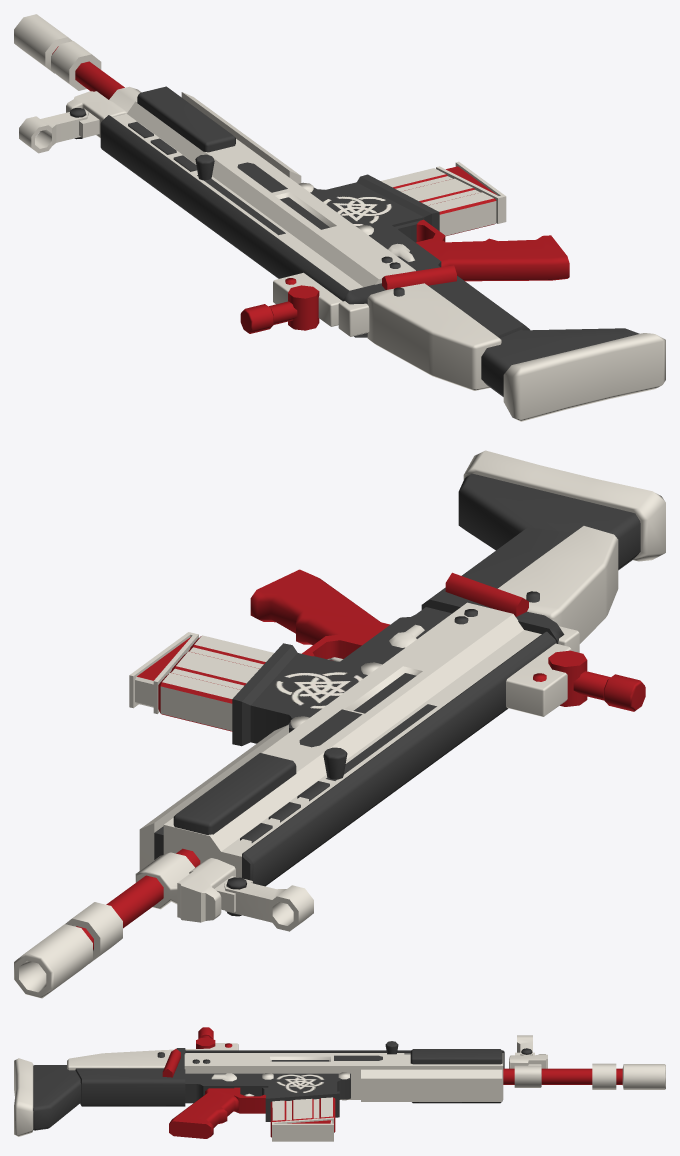
Rendered from yoshimi.glb.
3 views of the same model, one above another, from view 1: azimuth 30°, elevation 25°; view 2: azimuth 150°, elevation 25°; view 3: azimuth 270°, elevation 25° (orthographic). The views are drawn at different scales.
Visible parts, largest first — view 1: Yoshimi_Original_Weapon; view 2: Yoshimi_Original_Weapon; view 3: Yoshimi_Original_Weapon.
Boxes of the visible parts, <box> form: Yoshimi_Original_Weapon: <box>14,14,665,421</box>; Yoshimi_Original_Weapon: <box>14,450,665,998</box>; Yoshimi_Original_Weapon: <box>14,1027,665,1141</box>.
Bounding box in the file's own units: 0.2003 × 0.0433 × 0.5556.
Materials: 1 (1 with a texture image).
